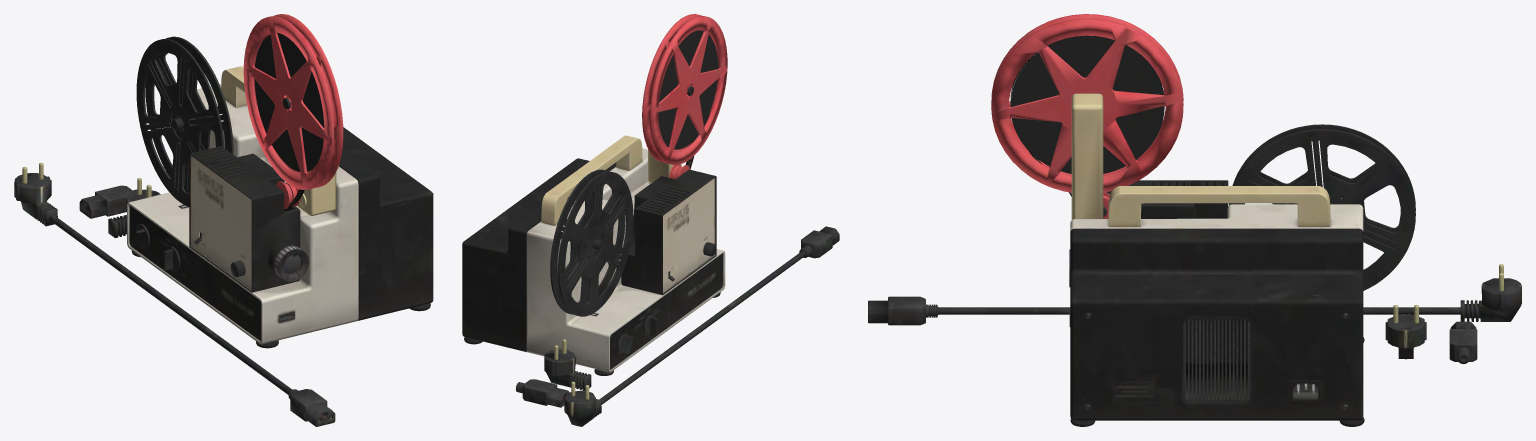
File: filmstrip_projector_8mm.glb
The picture shows the model from 3 angles, left to right: view 1: azimuth 30°, elevation 25°; view 2: azimuth 150°, elevation 25°; view 3: azimuth 270°, elevation 25°; orthographic projection. The views are drawn at different scales.
Visible parts, largest first — view 1: filmstrip_projector_8mm, filmstrip_projector_8mm_spool_feed, filmstrip_projector_8mm_spool_takeup, filmstrip_projector_8mm_cable, filmstrip_projector_8mm_01_film_side, filmstrip_projector_8mm_connector, filmstrip_projector_8mm_spool_arm, filmstrip_projector_8mm_schuko; view 2: filmstrip_projector_8mm, filmstrip_projector_8mm_spool_takeup, filmstrip_projector_8mm_spool_feed, filmstrip_projector_8mm_cable, filmstrip_projector_8mm_01_film_side, filmstrip_projector_8mm_schuko, filmstrip_projector_8mm_connector, filmstrip_projector_8mm_spool_arm; view 3: filmstrip_projector_8mm, filmstrip_projector_8mm_spool_feed, filmstrip_projector_8mm_spool_takeup, filmstrip_projector_8mm_01_film_side, filmstrip_projector_8mm_cable, filmstrip_projector_8mm_spool_arm, filmstrip_projector_8mm_schuko, filmstrip_projector_8mm_connector.
Boxes of the visible parts, box(x1,y1,x2,y2) form: filmstrip_projector_8mm: box(127, 66, 433, 348); filmstrip_projector_8mm_spool_feed: box(243, 14, 343, 189); filmstrip_projector_8mm_spool_takeup: box(136, 36, 233, 206); filmstrip_projector_8mm_cable: box(14, 162, 335, 426); filmstrip_projector_8mm_01_film_side: box(254, 33, 324, 171); filmstrip_projector_8mm_connector: box(79, 185, 137, 218); filmstrip_projector_8mm_spool_arm: box(297, 101, 336, 215); filmstrip_projector_8mm_schuko: box(108, 178, 160, 238); filmstrip_projector_8mm: box(462, 135, 725, 375); filmstrip_projector_8mm_spool_takeup: box(550, 169, 633, 316); filmstrip_projector_8mm_spool_feed: box(642, 14, 727, 164); filmstrip_projector_8mm_cable: box(564, 226, 839, 426); filmstrip_projector_8mm_01_film_side: box(658, 30, 718, 149); filmstrip_projector_8mm_schuko: box(544, 339, 591, 390); filmstrip_projector_8mm_connector: box(516, 379, 569, 407); filmstrip_projector_8mm_spool_arm: box(648, 149, 681, 182); filmstrip_projector_8mm: box(1069, 180, 1364, 426); filmstrip_projector_8mm_spool_feed: box(991, 14, 1183, 192); filmstrip_projector_8mm_spool_takeup: box(1229, 124, 1415, 290); filmstrip_projector_8mm_01_film_side: box(1010, 36, 1164, 173); filmstrip_projector_8mm_cable: box(868, 264, 1521, 325); filmstrip_projector_8mm_spool_arm: box(1071, 93, 1103, 219); filmstrip_projector_8mm_schuko: box(1385, 305, 1426, 359); filmstrip_projector_8mm_connector: box(1449, 321, 1477, 363).
Bounding box in the file's own units: 0.2537 × 0.3454 × 0.6026.
2 materials, 2 textured.
